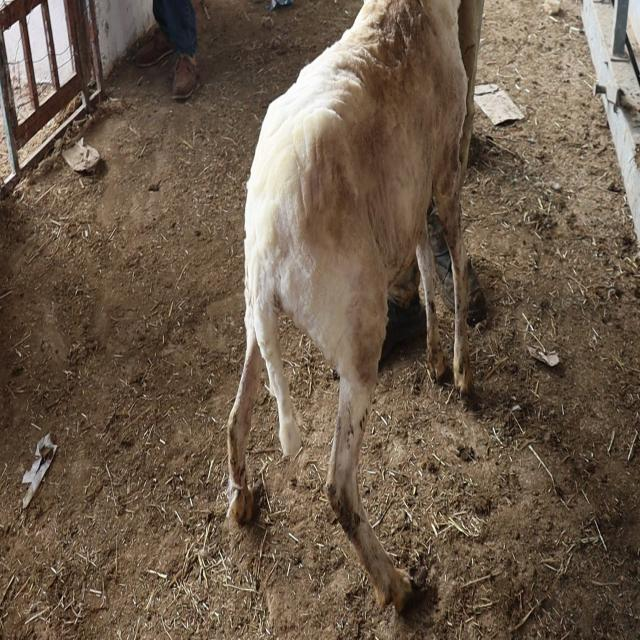Score_5: (227, 0, 472, 613)
